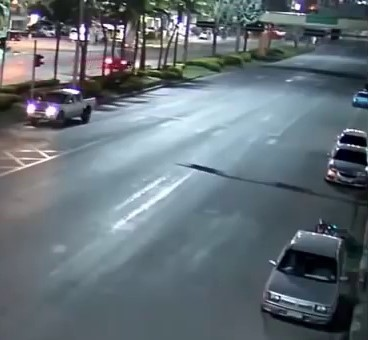car: (262, 230, 343, 328), (26, 87, 95, 128), (327, 125, 368, 186), (352, 87, 368, 107)
